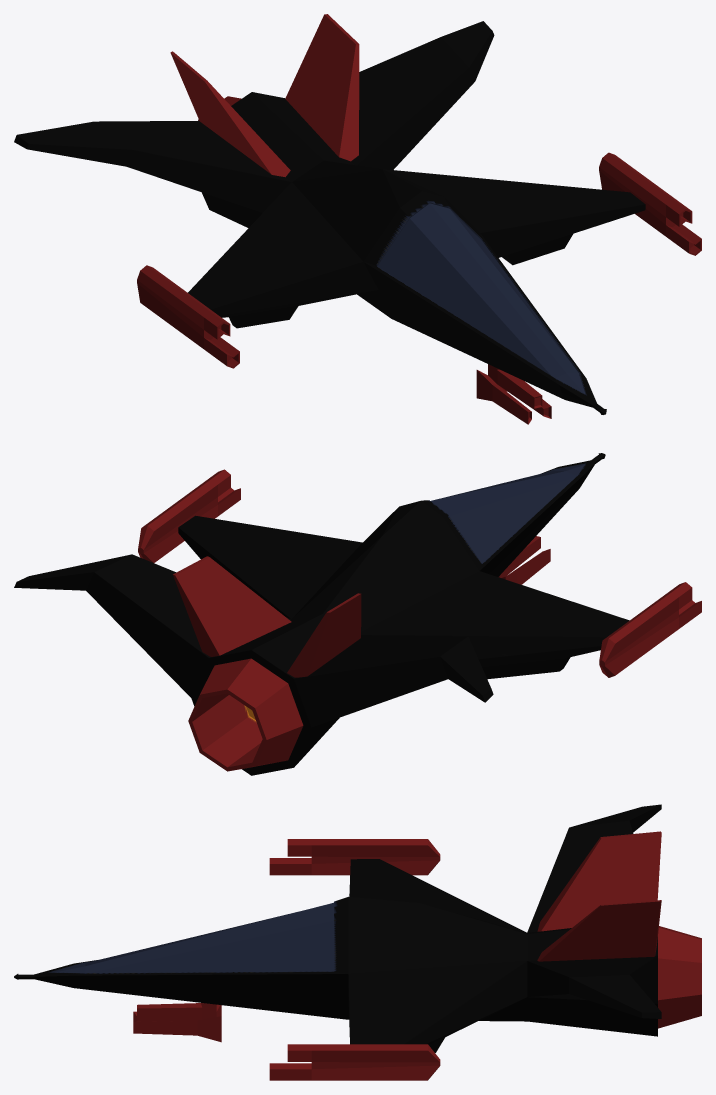
Rendered from nave.obj.
3 views of the same model, one above another, from view 1: azimuth 30°, elevation 25°; view 2: azimuth 150°, elevation 25°; view 3: azimuth 270°, elevation 25° (orthographic). The views are drawn at different scales.
Visible parts, largest first — view 1: Object_4; view 2: Object_4; view 3: Object_4.
Boxes of the visible parts, x1=… form: Object_4: x1=14, y1=14, x2=701, y2=424; Object_4: x1=14, y1=453, x2=701, y2=775; Object_4: x1=14, y1=804, x2=701, y2=1080.
Bounding box in the file's own units: 11.34 × 4.23 × 15.63.
Materials: 1 (1 with a texture image).
